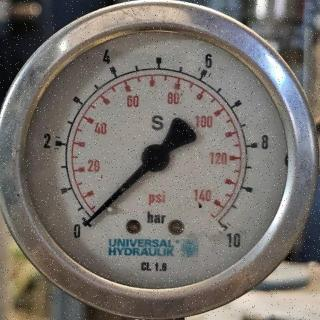gauge: (0, 1, 314, 319), (207, 211, 245, 249), (68, 207, 104, 241), (140, 143, 170, 173), (79, 215, 94, 229)
